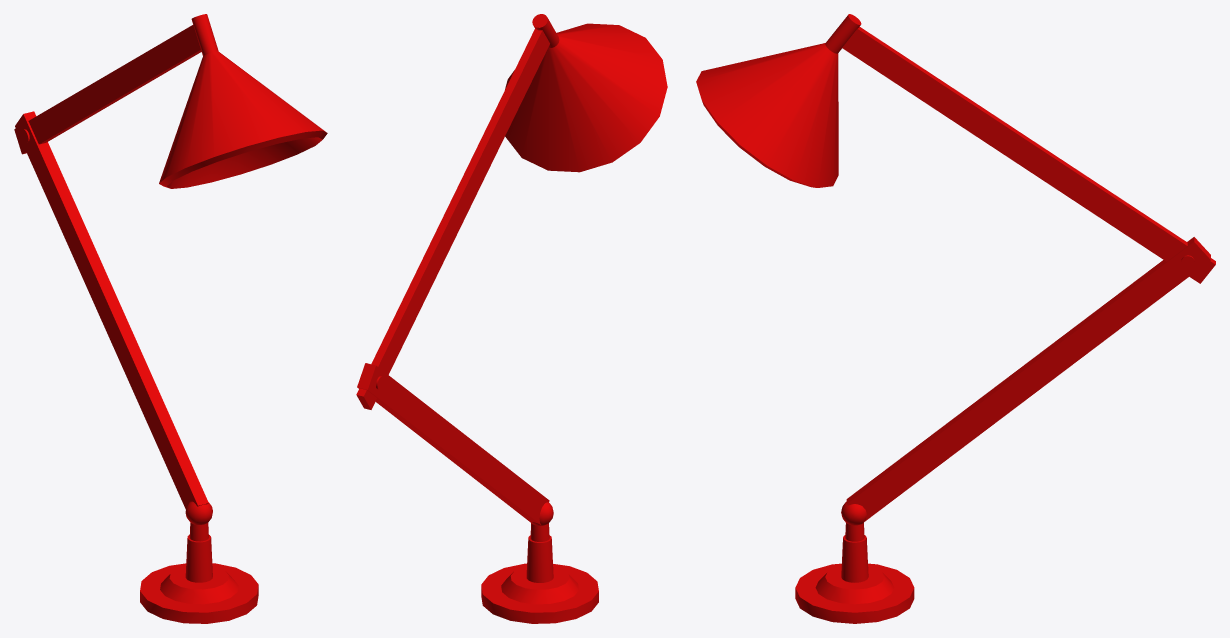
File: fot05.obj
The picture shows the model from 3 angles, left to right: view 1: azimuth 30°, elevation 25°; view 2: azimuth 150°, elevation 25°; view 3: azimuth 270°, elevation 25°; orthographic projection.
Parts seen in each view (by area): view 1: cylinder6, cube3, cylinder1, cube3_copy, sphere2; view 2: cylinder6, cube3_copy, cylinder1, cube3; view 3: cylinder6, cube3, cube3_copy, cylinder1.
Part boxes in pixels (box(x1,y1,x2,y2)): cylinder6: box(159, 14, 327, 188); cube3: box(15, 111, 208, 509); cylinder1: box(140, 522, 258, 623); cube3_copy: box(14, 25, 201, 154); sphere2: box(185, 501, 212, 524); cylinder6: box(505, 14, 667, 172); cube3_copy: box(356, 28, 549, 409); cylinder1: box(481, 523, 598, 623); cube3: box(357, 363, 549, 524); cylinder6: box(696, 14, 861, 187); cube3: box(846, 237, 1210, 522); cube3_copy: box(842, 26, 1215, 283); cylinder1: box(795, 523, 914, 623).
Size of the model in its own units: 1.72 by 6.28 by 5.07.
